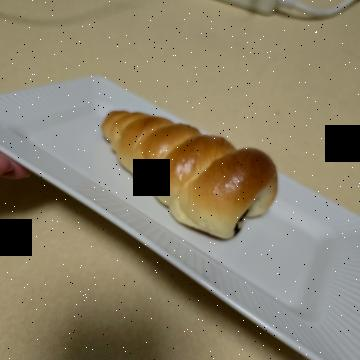cream horn: (83, 67, 257, 279)
